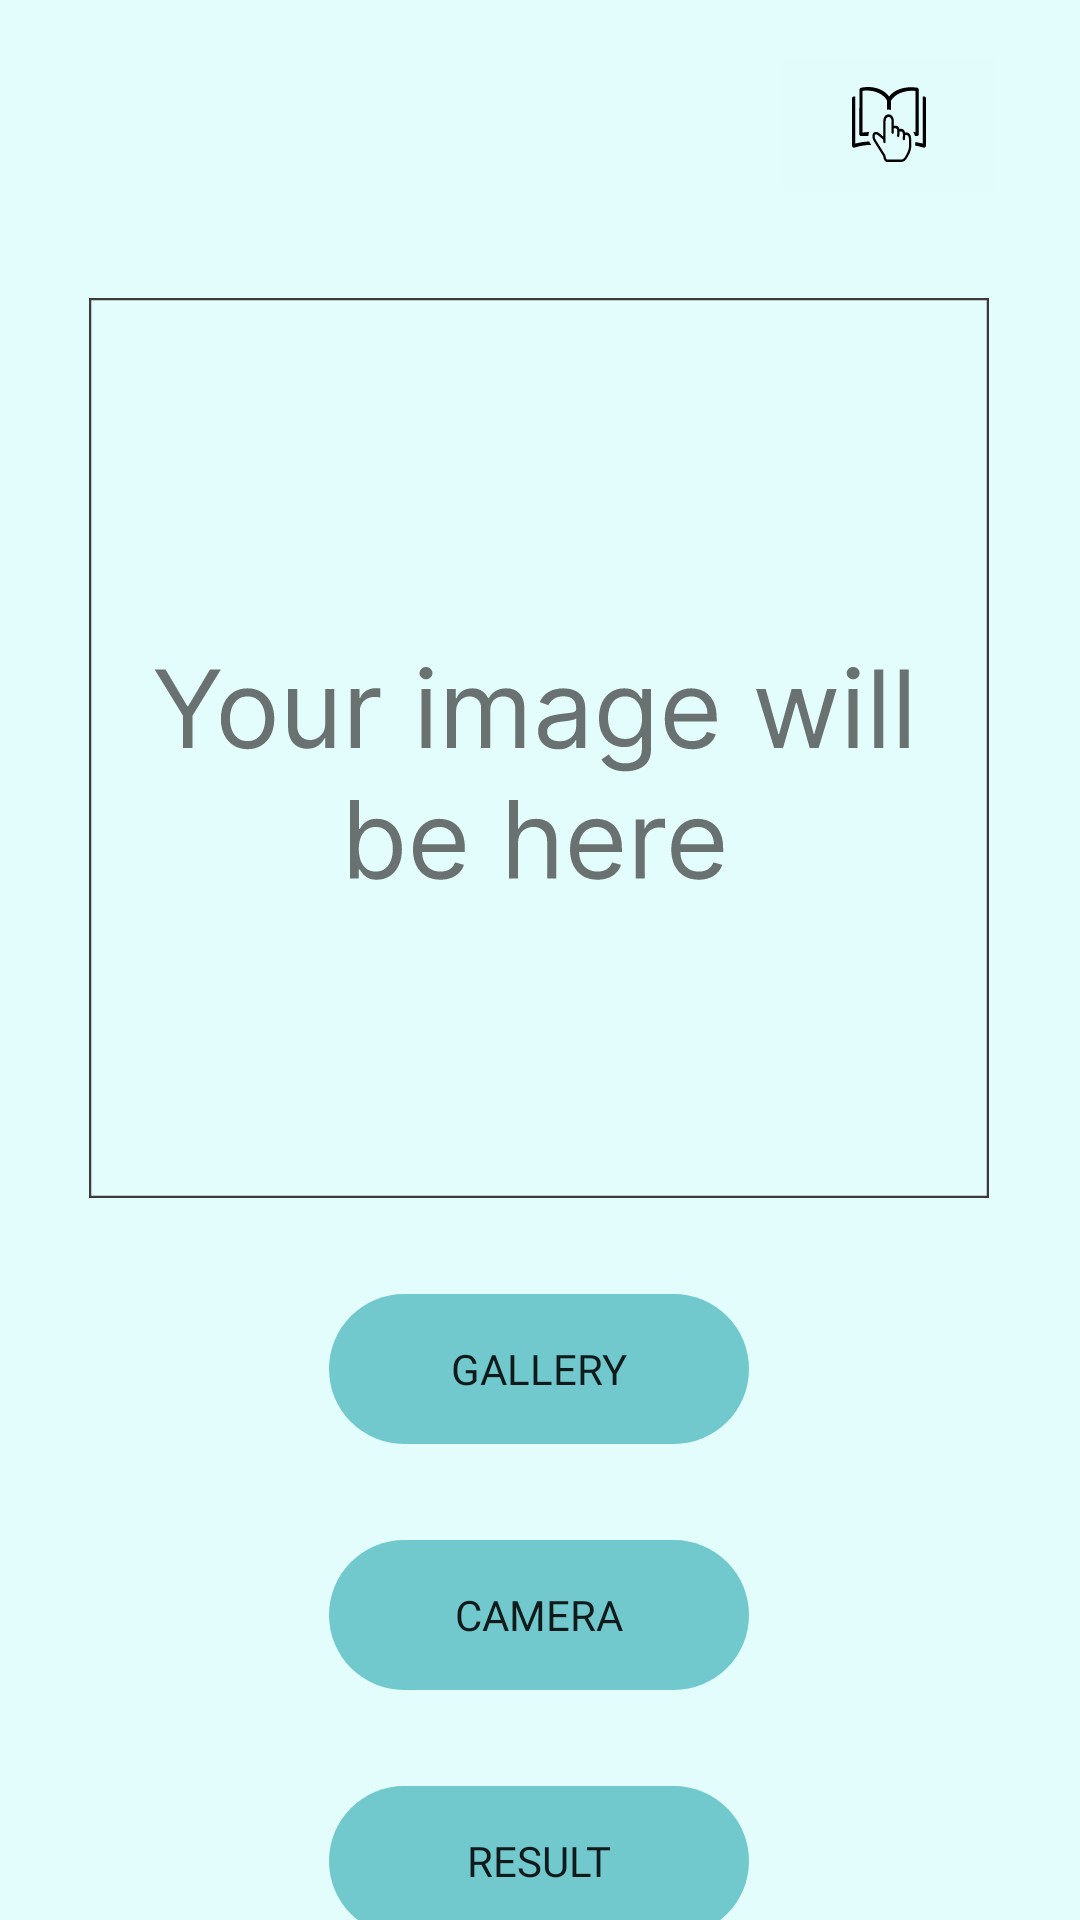

Where icons sit on this 1080w x 1920h app screen, as {"left": x1, "top": y1, "right": x2, "bottom": y2}:
Advices: {"left": 852, "top": 87, "right": 926, "bottom": 162}
